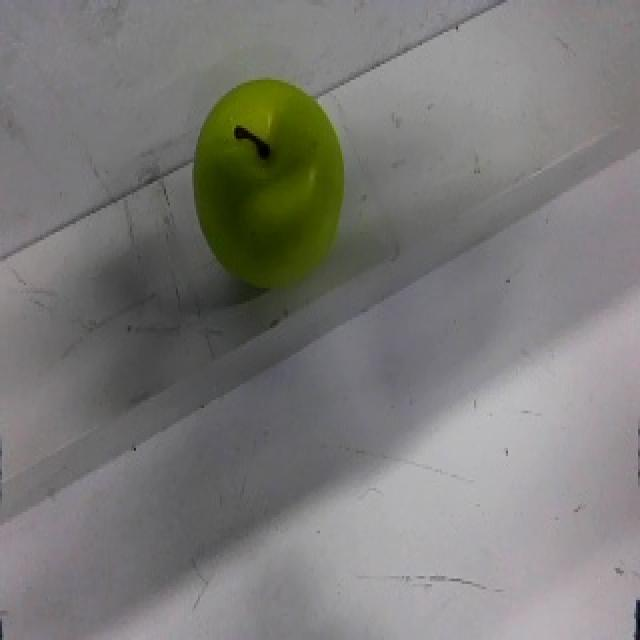apple: (190, 76, 346, 292)
